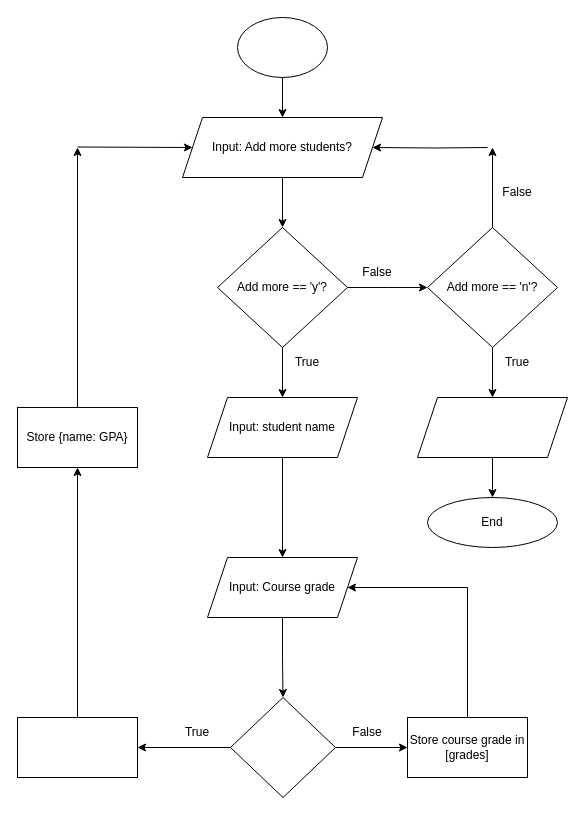
This 585x815 diagram has some shape labels left out. Here are the shapes that lost their labels. From the top down, the box of each, then its label:
(236, 16, 328, 78): Start
(416, 396, 568, 458): Output: Student GPA Dictionary
(16, 716, 138, 778): Calculate GPA = sum(grades) / len(grades)
(230, 696, 336, 798): Grade == -1?
